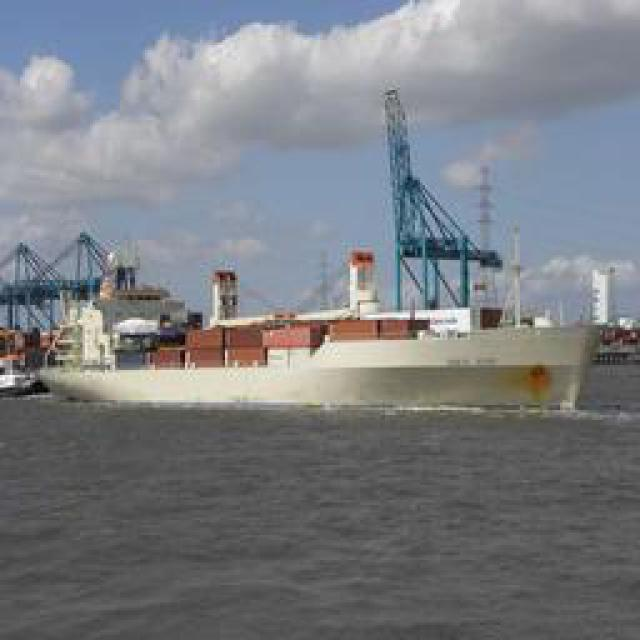Ship: (24, 266, 617, 414)
